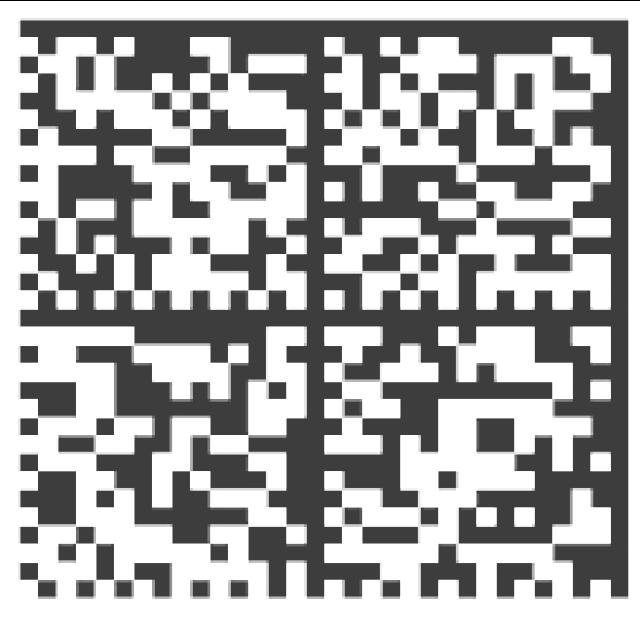DataMatrix: (9, 8, 637, 607)
